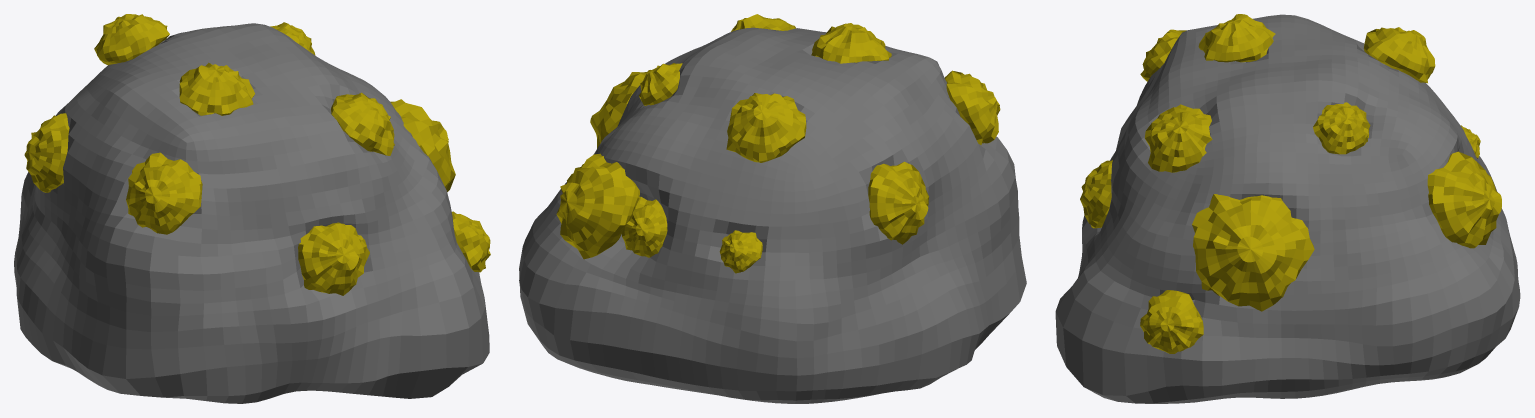
Rendered from GoldResources.fbx.
The picture shows the model from 3 angles, left to right: view 1: azimuth 30°, elevation 25°; view 2: azimuth 150°, elevation 25°; view 3: azimuth 270°, elevation 25°; orthographic projection. The views are drawn at different scales.
Visible parts, largest first — view 1: Gold, Resources.003, Resources.004, Resources.006, Resources.005, Resources.007, Resources.002, Resources.010, Resources.009, Resources.008; view 2: Gold, Resources.011, Resources.007, Resources.002, Resources.003, Resources.006, Resources.010, Resources, Resources.008, Resources.005; view 3: Gold, Resources.010, Resources.011, Resources.005, Resources.009, Resources.006, Resources.007, Resources.008, Resources.004, Resources.003.
Part boxes in pixels (left/top/right/bottom): Gold: left=14, top=23, right=489, bottom=403; Resources.003: left=126, top=152, right=202, bottom=234; Resources.004: left=298, top=222, right=369, bottom=295; Resources.006: left=179, top=62, right=254, bottom=115; Resources.005: left=331, top=92, right=394, bottom=155; Resources.007: left=94, top=14, right=169, bottom=65; Resources.002: left=24, top=113, right=69, bottom=192; Resources.010: left=390, top=99, right=455, bottom=191; Resources.009: left=451, top=211, right=490, bottom=272; Resources.008: left=270, top=22, right=315, bottom=55; Gold: left=519, top=27, right=1026, bottom=403; Resources.011: left=556, top=153, right=667, bottom=259; Resources.007: left=726, top=93, right=806, bottom=162; Resources.002: left=868, top=161, right=928, bottom=244; Resources.003: left=944, top=70, right=1000, bottom=144; Resources.006: left=811, top=23, right=891, bottom=63; Resources.010: left=590, top=71, right=647, bottom=148; Resources: left=719, top=230, right=762, bottom=273; Resources.008: left=639, top=63, right=682, bottom=105; Resources.005: left=731, top=14, right=795, bottom=31; Gold: left=1055, top=14, right=1520, bottom=403; Resources.010: left=1192, top=194, right=1314, bottom=311; Resources.011: left=1427, top=151, right=1501, bottom=248; Resources.005: left=1144, top=104, right=1212, bottom=172; Resources.009: left=1140, top=290, right=1203, bottom=353; Resources.006: left=1198, top=14, right=1275, bottom=62; Resources.007: left=1363, top=27, right=1435, bottom=83; Resources.008: left=1313, top=102, right=1370, bottom=154; Resources.004: left=1080, top=160, right=1112, bottom=228; Resources.003: left=1140, top=29, right=1186, bottom=81.
Size of the model in its own units: 310 by 235 by 327.
